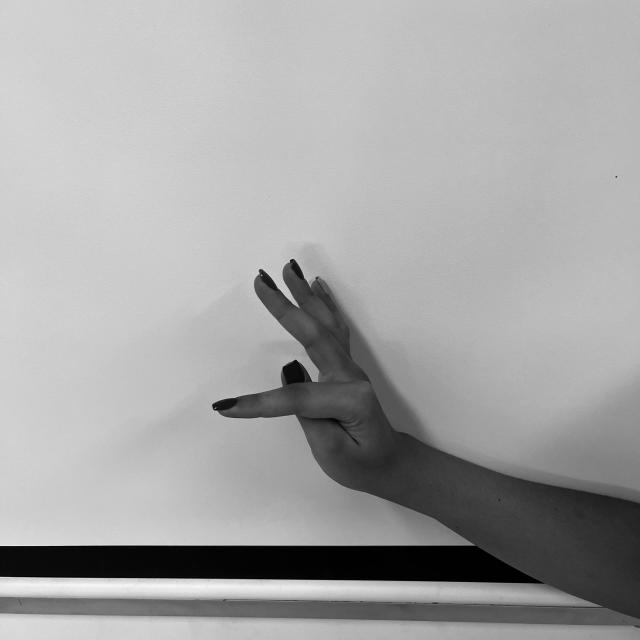Letra T: (207, 252, 400, 493)
